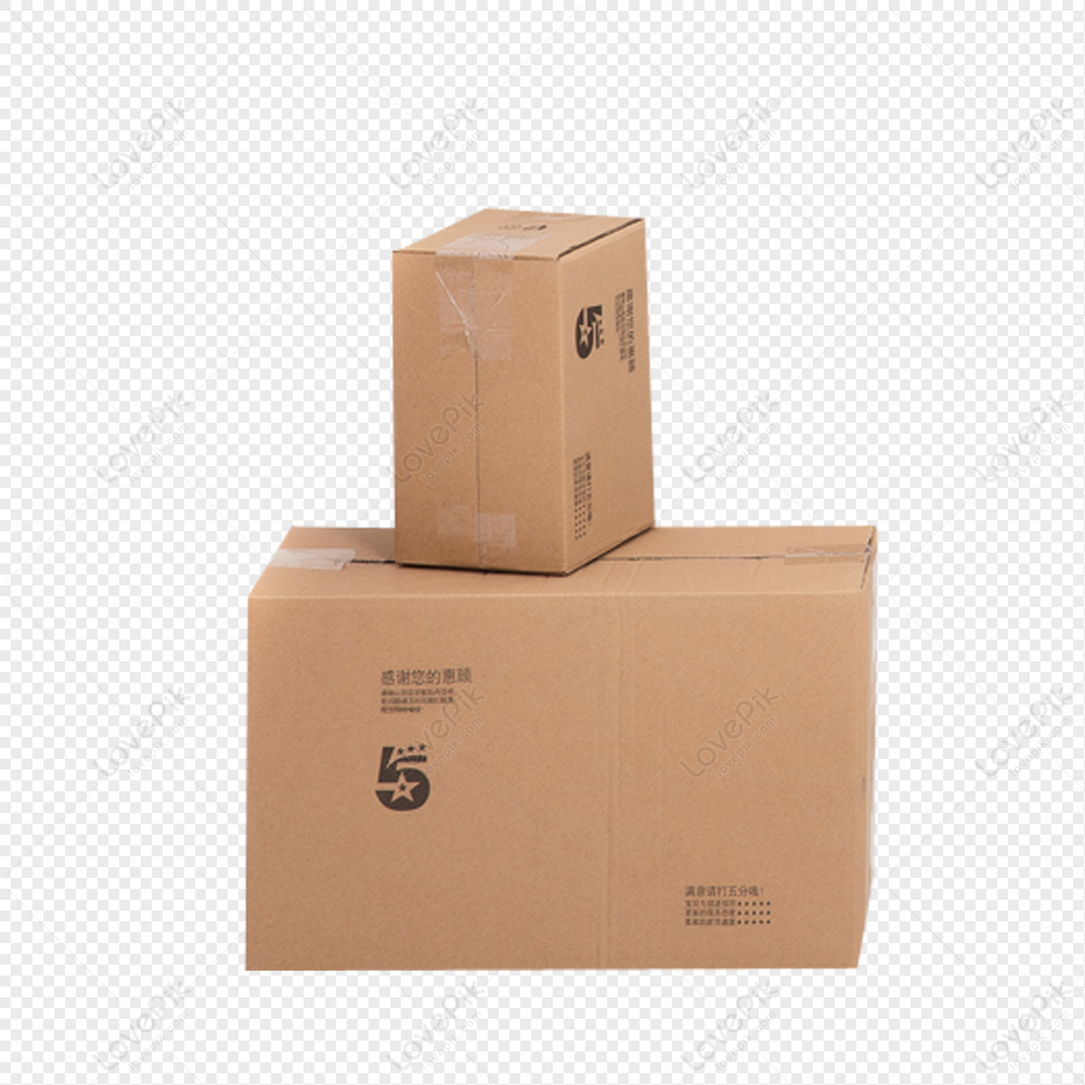undamaged: (237, 201, 877, 977)
